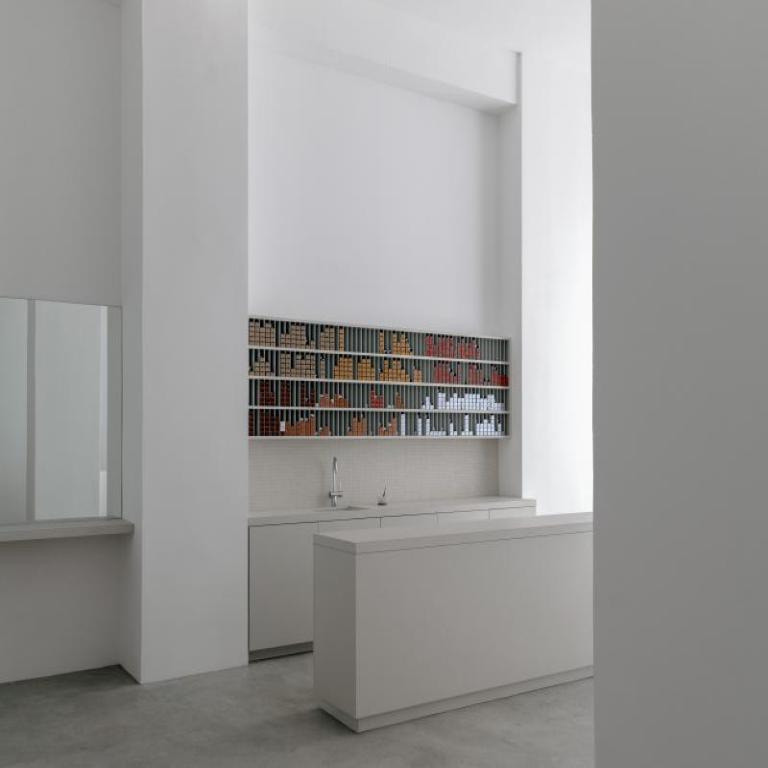white-walls: (63, 47, 554, 318)
